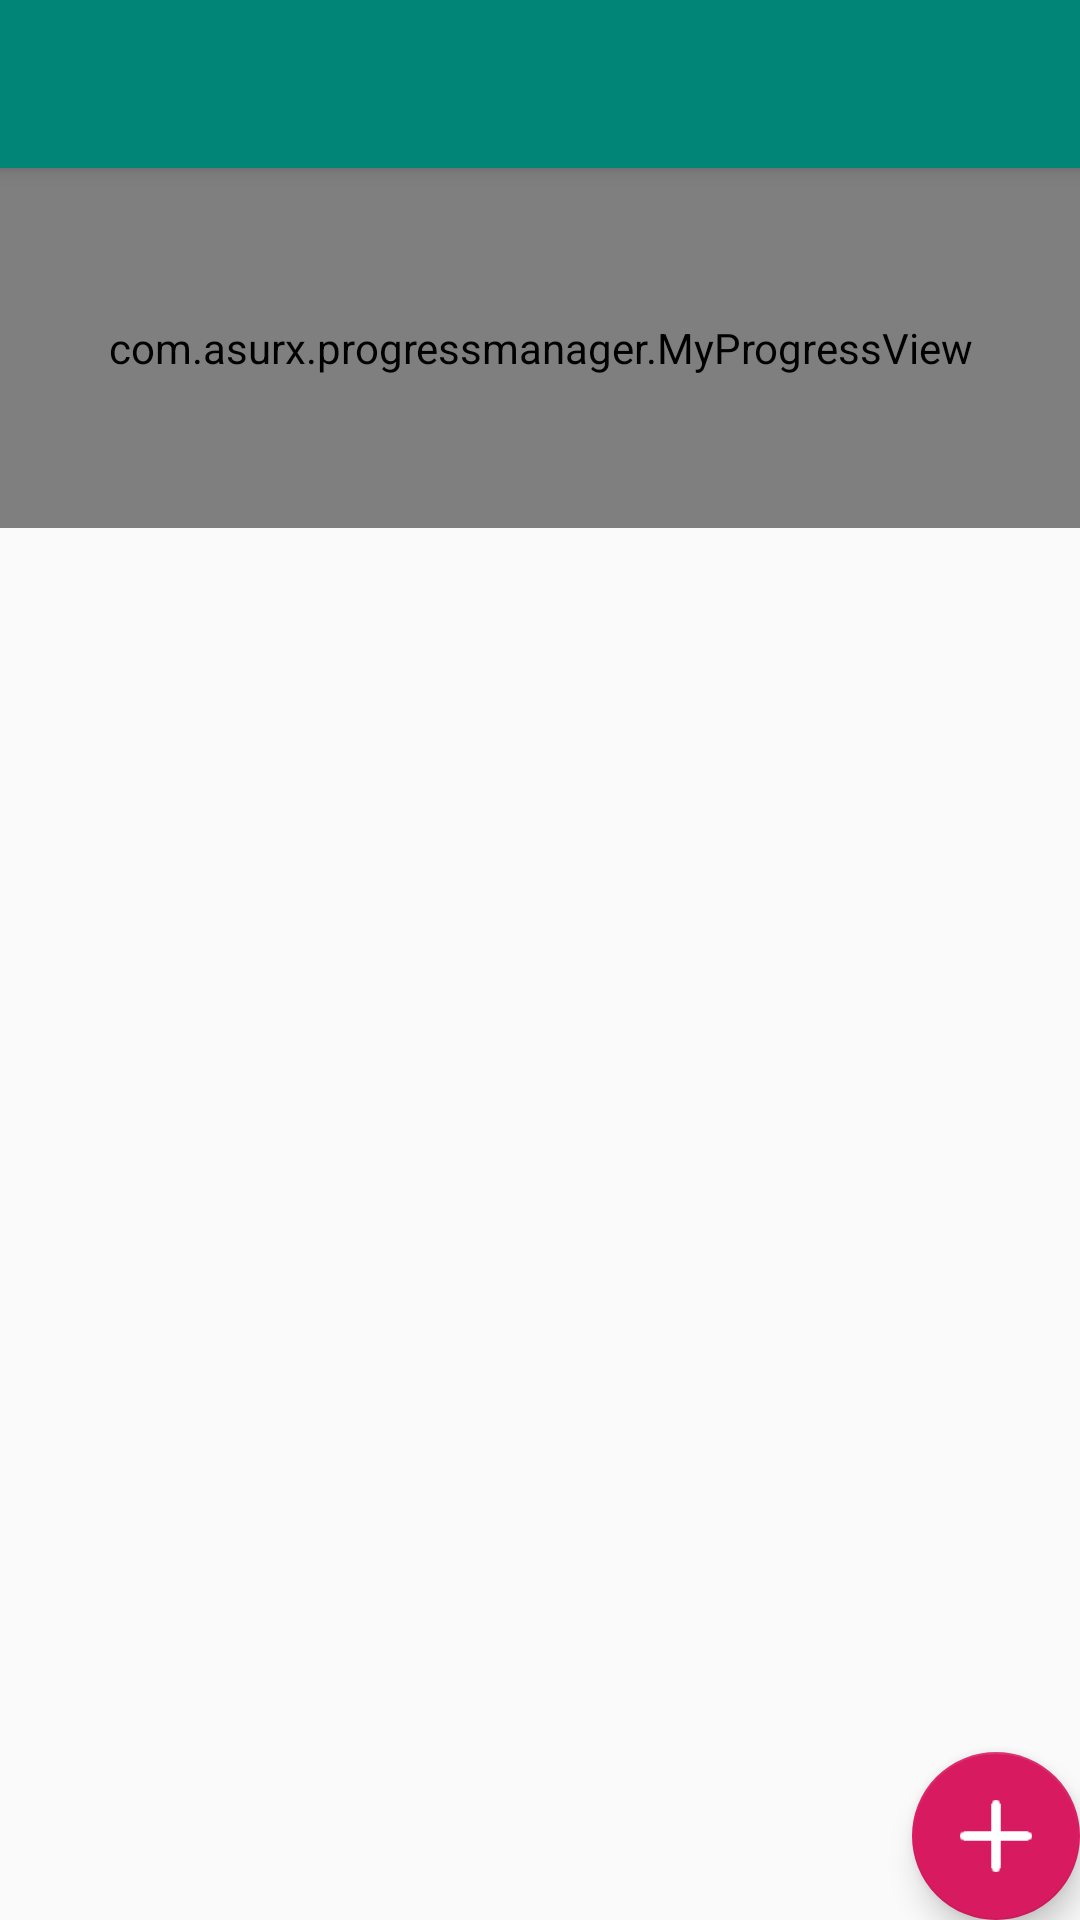

Screen size 1080w x 1920h. Icon name, then its box in pixels as (x1, y1, x2, y2):
plus: (912, 1752, 1080, 1920)
